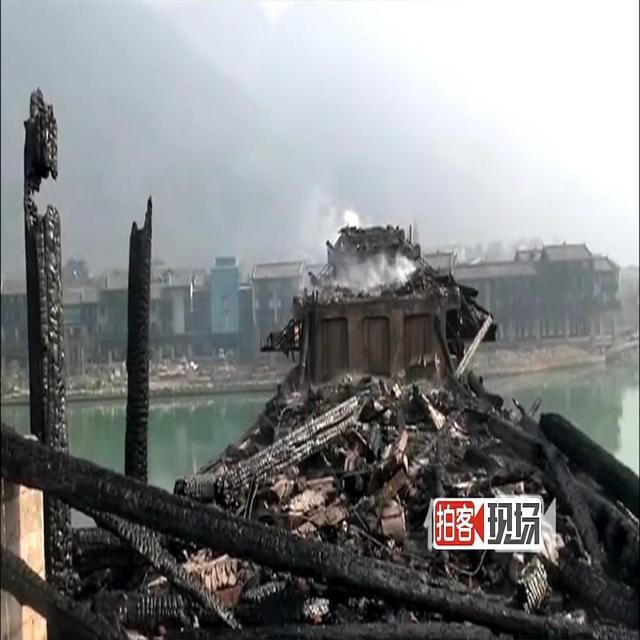Smoke: (296, 196, 418, 304)
